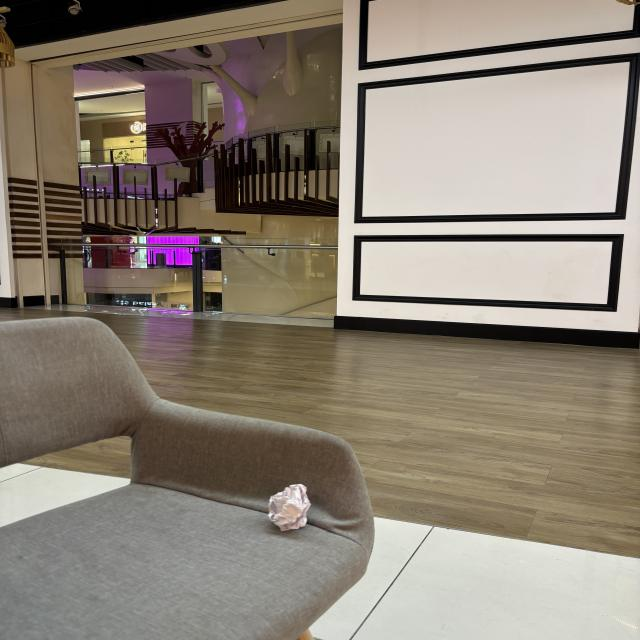crumpled_paper: (263, 476, 314, 537)
